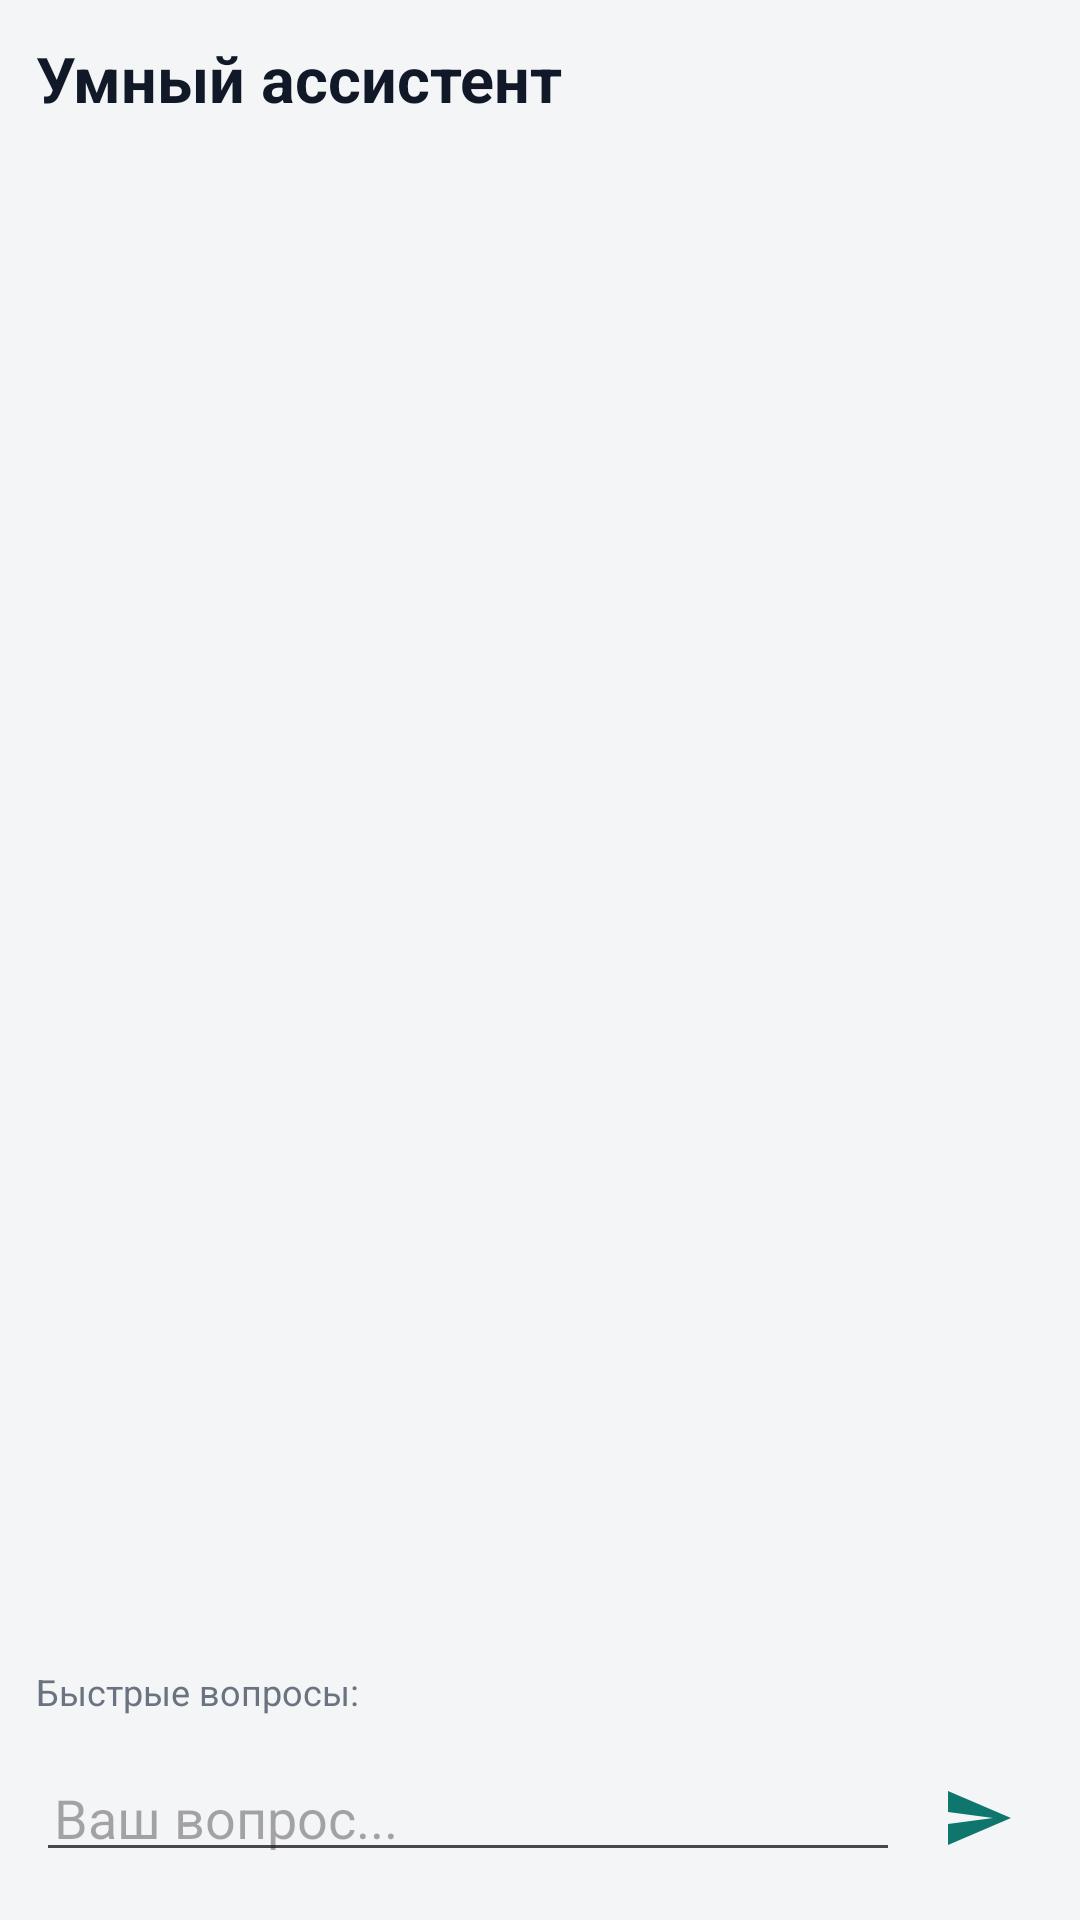

Icon bounding boxes for this 1080w x 1920h phone screenshot, format [x1=x1, y1=y1, x2=x2, y2=y2]:
Спросить: [x1=948, y1=1791, x2=1011, y2=1845]
